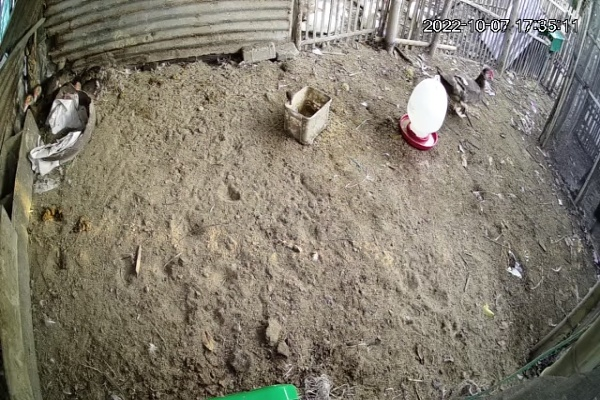Entog: (432, 56, 505, 126)
